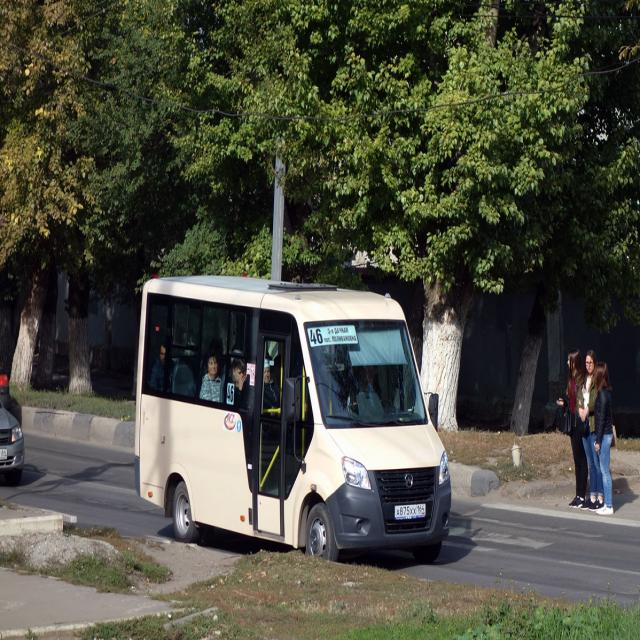number-of-bus: (309, 327, 325, 348), (228, 384, 235, 406)
